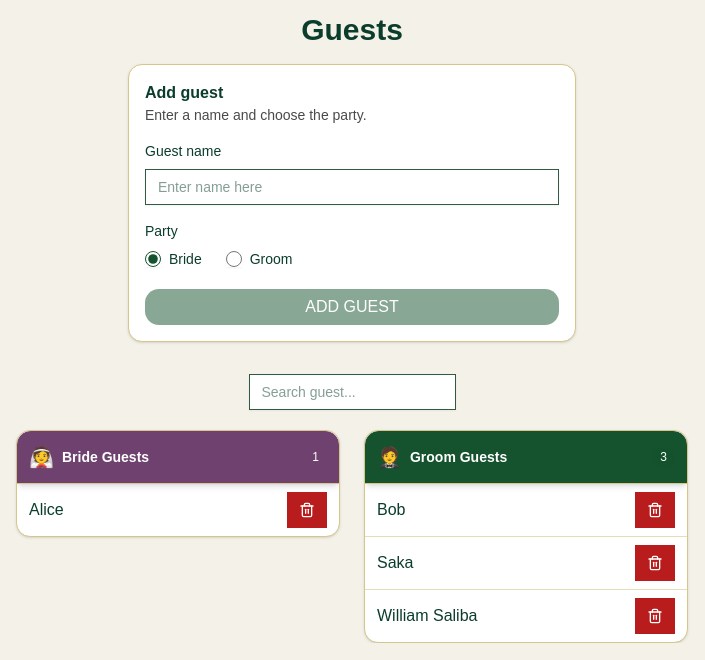
Test: The Add guest button remains disabled until a name is entered in the form
The image size is (705, 660).
Expected: the button "Add guest" is disabled, [145,289,559,325]
Type "Test name" into the field labelled "Guest name" at (352, 187), box [145,169,559,205]
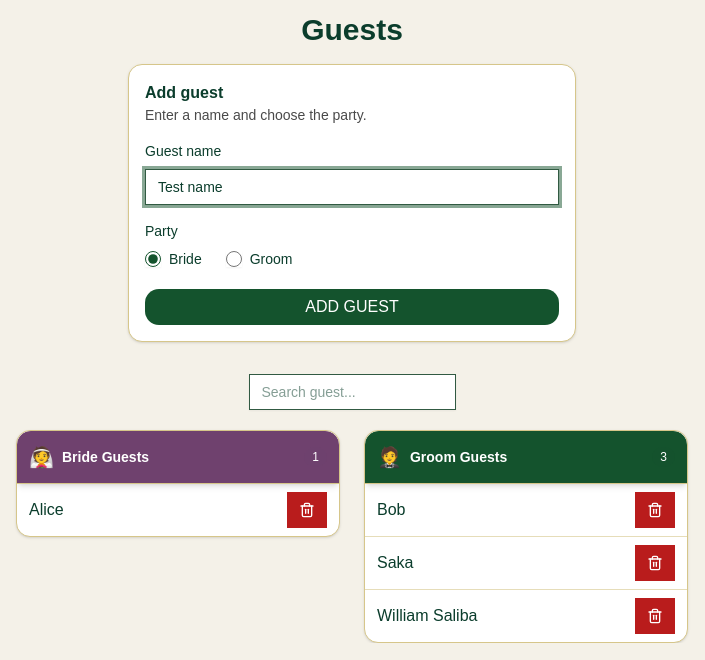
Expected: the button "Add guest" is enabled, [145,289,559,325]
